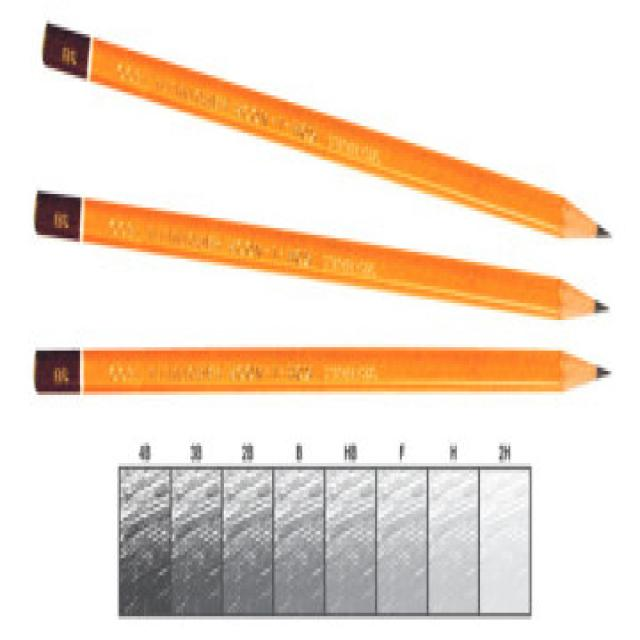pencil: (37, 12, 621, 253), (27, 178, 617, 329), (30, 341, 623, 400)
